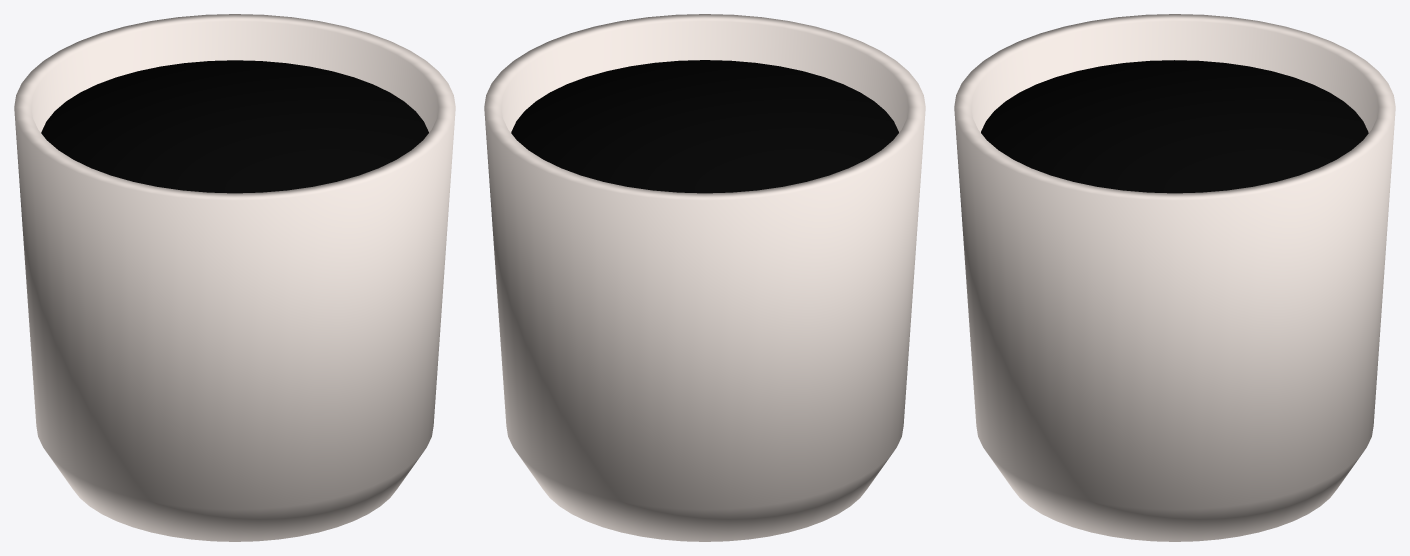
The model's file is Menu_HotAmericano.fbx.
The picture shows the model from 3 angles, left to right: view 1: azimuth 30°, elevation 25°; view 2: azimuth 150°, elevation 25°; view 3: azimuth 270°, elevation 25°; orthographic projection.
Visible parts, largest first — view 1: Menu_HotAmericano.001; view 2: Menu_HotAmericano.001; view 3: Menu_HotAmericano.001.
Boxes of the visible parts, left/top/right/bottom form: Menu_HotAmericano.001: left=14, top=14, right=455, bottom=541; Menu_HotAmericano.001: left=484, top=14, right=925, bottom=541; Menu_HotAmericano.001: left=954, top=14, right=1395, bottom=541.
Bounding box in the file's own units: 49.66 × 45.15 × 49.66.
